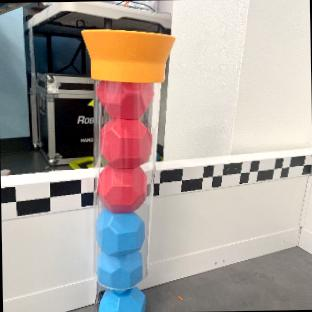Loader: (81, 26, 174, 312)
V5_BLUE: (95, 209, 144, 252), (96, 250, 142, 287), (98, 287, 143, 312)
V5_RED: (99, 118, 152, 166), (94, 79, 156, 118), (97, 163, 146, 211)
